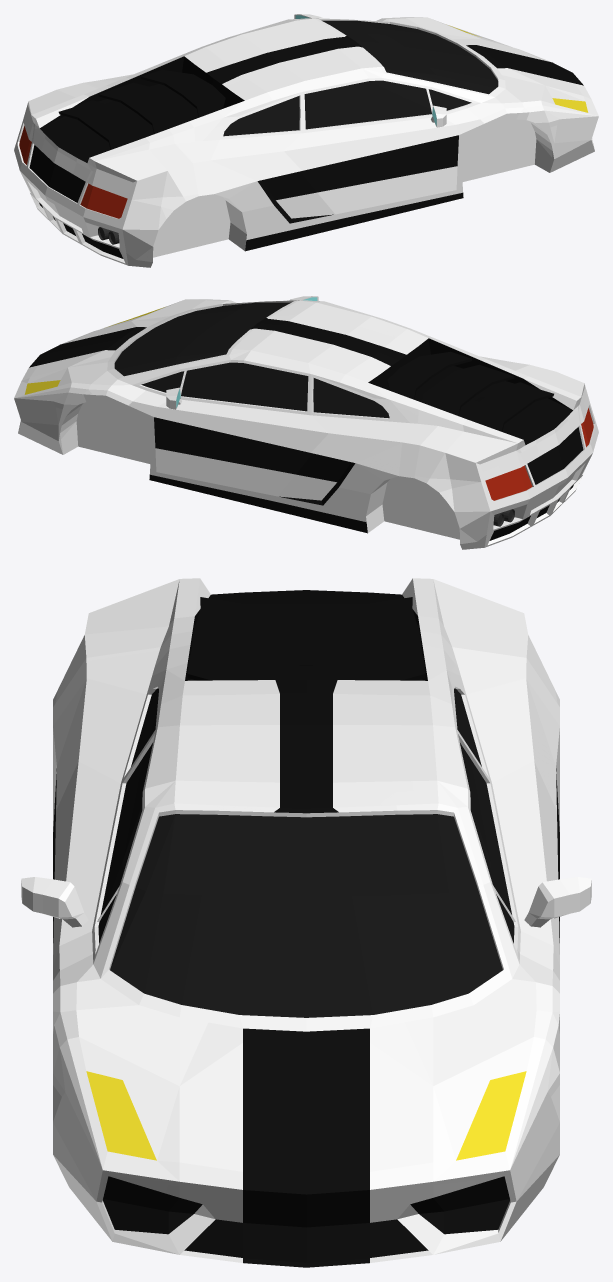
The model's file is base_lambo.glb.
The picture shows the model from 3 angles, top to bottom: view 1: azimuth 30°, elevation 25°; view 2: azimuth 150°, elevation 25°; view 3: azimuth 270°, elevation 25°; orthographic projection. The views are drawn at different scales.
Visible parts, largest first — view 1: base, stripes, windows, air_vent, back_lights, front_lights; view 2: base, stripes, windows, air_vent, back_lights, front_lights; view 3: base, windows, stripes, air_vent, front_lights.
Part boxes in pixels (x1,y1,x2,y2): base: (14,14,598,267); stripes: (29,35,583,258); windows: (223,20,498,136); air_vent: (40,56,244,162); back_lights: (19,126,127,218); front_lights: (449,25,588,112); base: (14,296,598,549); stripes: (29,317,583,540); windows: (114,302,389,418); air_vent: (368,338,572,444); back_lights: (485,408,593,500); front_lights: (24,307,164,394); base: (21,578,591,1262); windows: (98,688,514,1017); stripes: (53,679,559,1267); air_vent: (185,590,427,680); front_lights: (86,1071,526,1160).
Bounding box in the file's own units: 4.31 × 0.9734 × 2.01.
